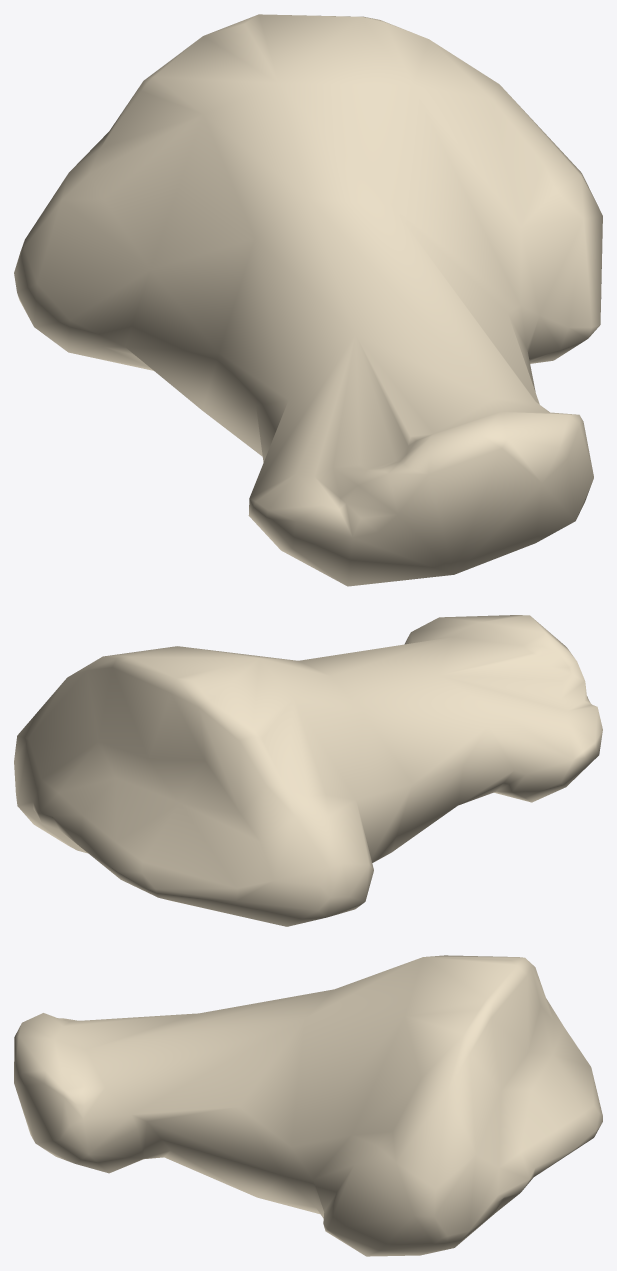
File: distal-phalanx-of-first-finger-of-foot-r.glb
3 renders of one model, top to bottom at view 1: azimuth 30°, elevation 25°; view 2: azimuth 150°, elevation 25°; view 3: azimuth 270°, elevation 25°, orthographic. The views are drawn at different scales.
Visible parts, largest first — view 1: Distal phalanx of first finger of foot.r; view 2: Distal phalanx of first finger of foot.r; view 3: Distal phalanx of first finger of foot.r.
Boxes of the visible parts, x1,y1,x2,y2 form: Distal phalanx of first finger of foot.r: [14, 14, 602, 586]; Distal phalanx of first finger of foot.r: [14, 615, 602, 926]; Distal phalanx of first finger of foot.r: [14, 955, 602, 1256].
Size of the model in its own units: 0.0207 by 0.0115 by 0.0269.
